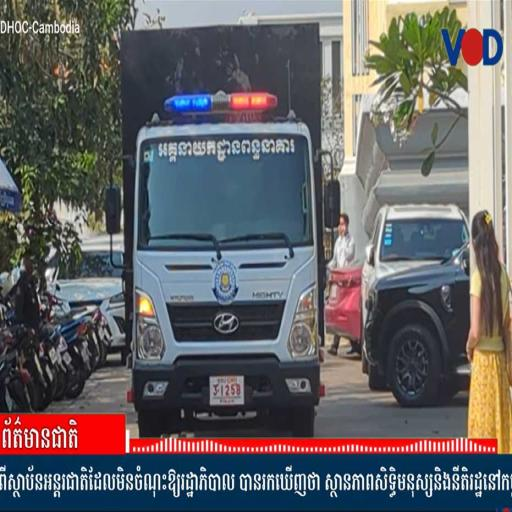Plate Number: (208, 372, 246, 406)
